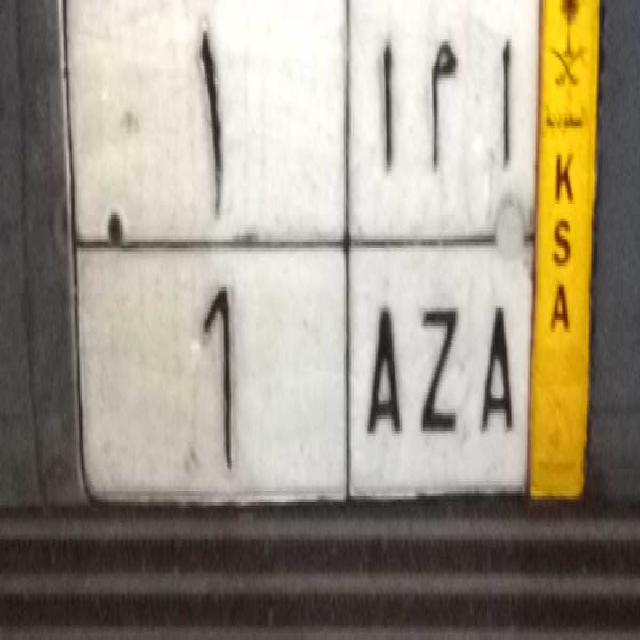license_plate: (73, 234, 531, 493)
